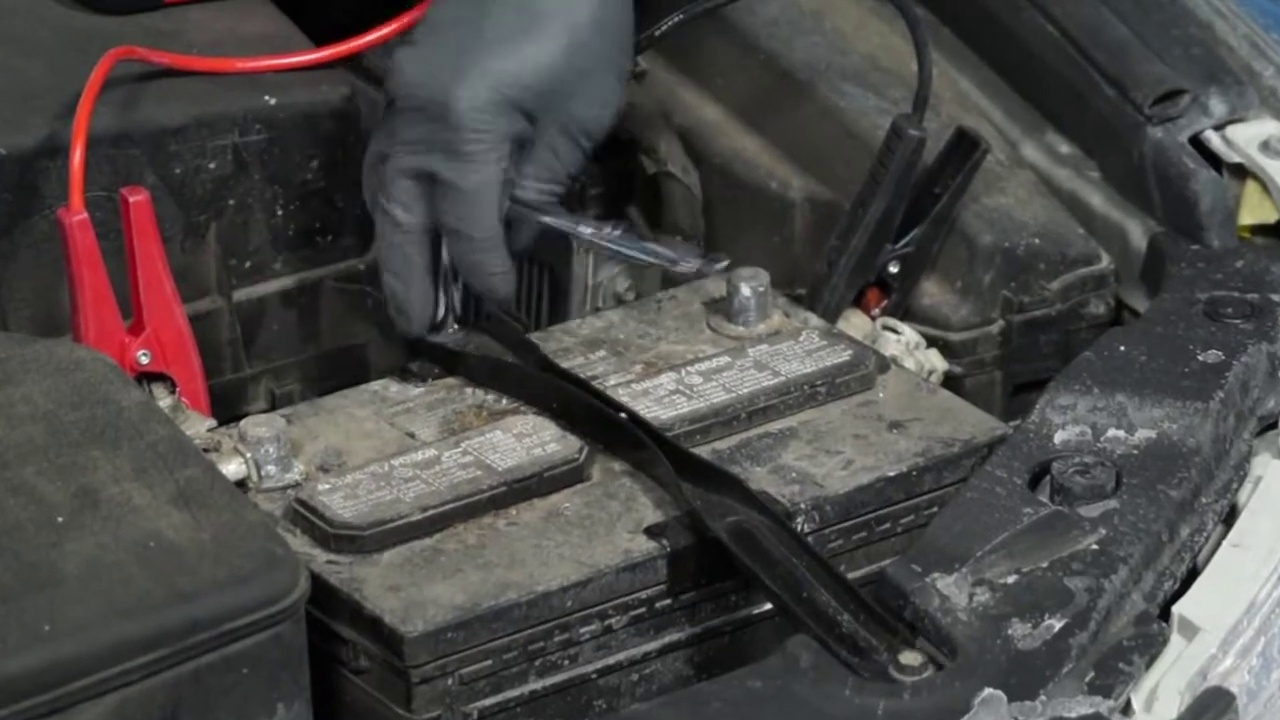battery: (170, 243, 996, 584)
neg_disconnected: (700, 242, 823, 350)
pos_disconnected: (83, 251, 321, 496)
